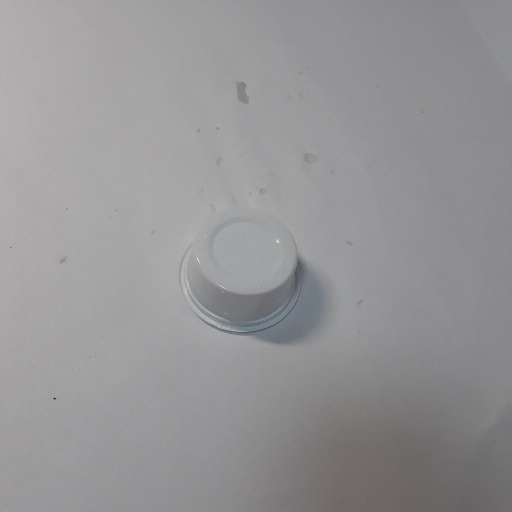Plastic_5: (178, 205, 303, 338)
